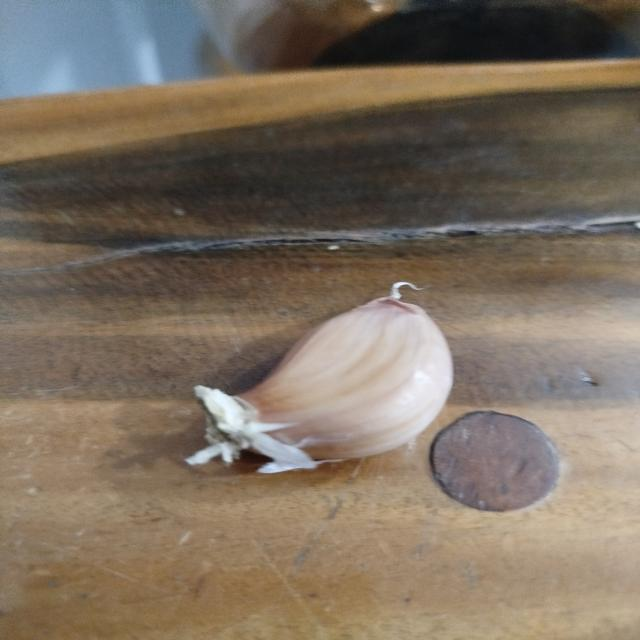garlic: (184, 281, 454, 474)
